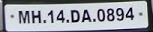character: (17, 9, 30, 24), (30, 9, 41, 24), (105, 7, 115, 22), (124, 6, 134, 21), (55, 9, 65, 23), (81, 8, 91, 22), (95, 8, 105, 22), (115, 7, 124, 22), (69, 9, 79, 22), (47, 9, 54, 24)
